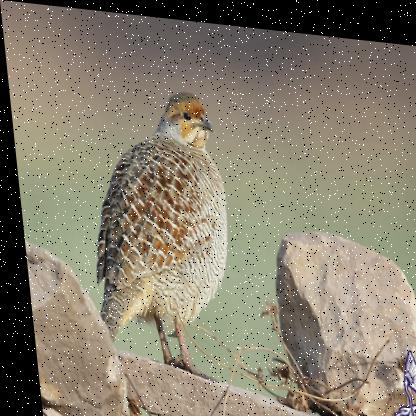Burung: (75, 78, 236, 380)
